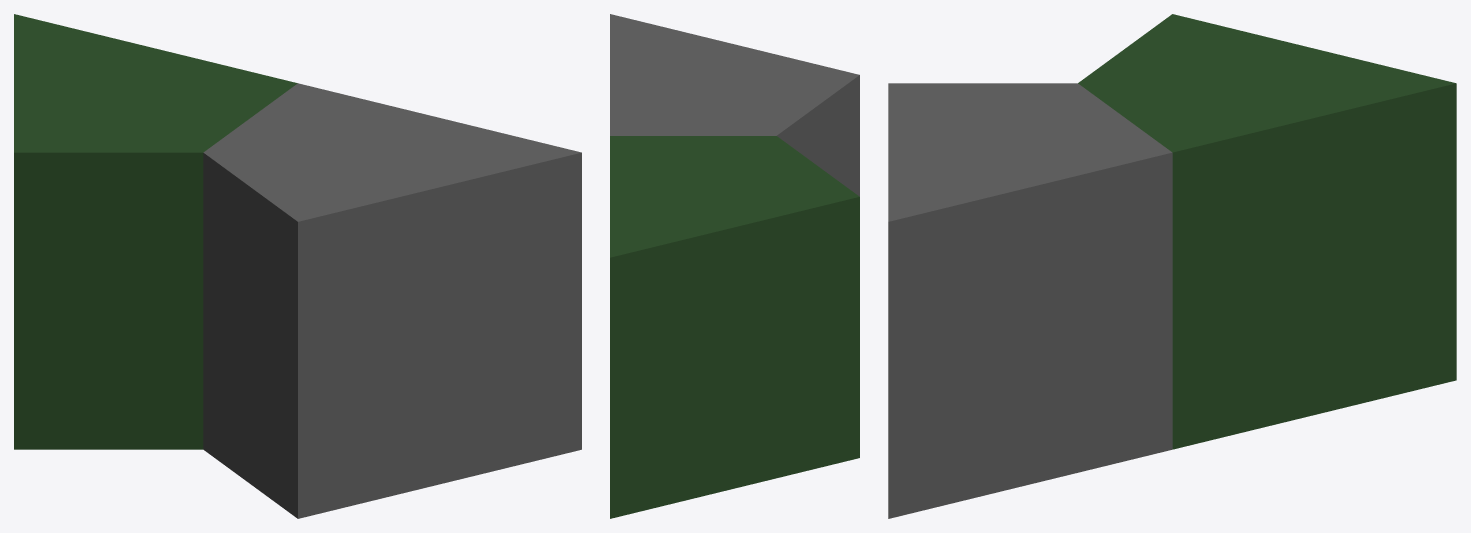
The model's file is face_air-cliff_forest-air_cliff-forest.glb.
3 views of the same model, side by side, from view 1: azimuth 30°, elevation 25°; view 2: azimuth 150°, elevation 25°; view 3: azimuth 270°, elevation 25° (orthographic). The views are drawn at different scales.
Visible parts, largest first — view 1: face_air-cliff_forest-air_cliff-forest; view 2: face_air-cliff_forest-air_cliff-forest; view 3: face_air-cliff_forest-air_cliff-forest.
Boxes of the visible parts, bbox=[...] form: face_air-cliff_forest-air_cliff-forest: bbox=[14, 14, 581, 518]; face_air-cliff_forest-air_cliff-forest: bbox=[610, 14, 859, 518]; face_air-cliff_forest-air_cliff-forest: bbox=[888, 14, 1456, 518].
Bounding box in the file's own units: 0.7501 × 0.5 × 0.8663.
